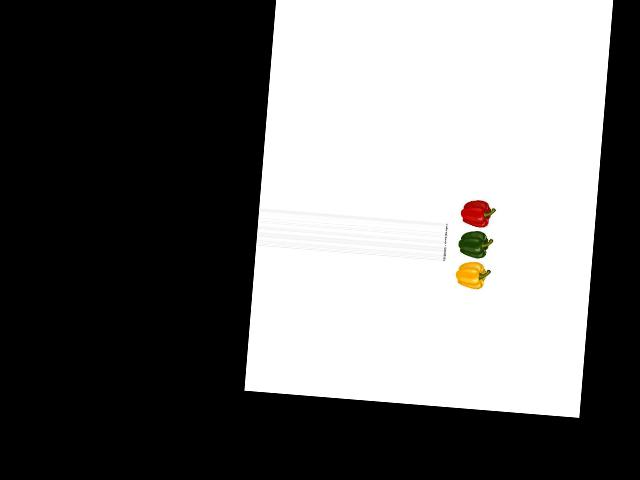bell_pepper: (452, 258, 490, 291)
